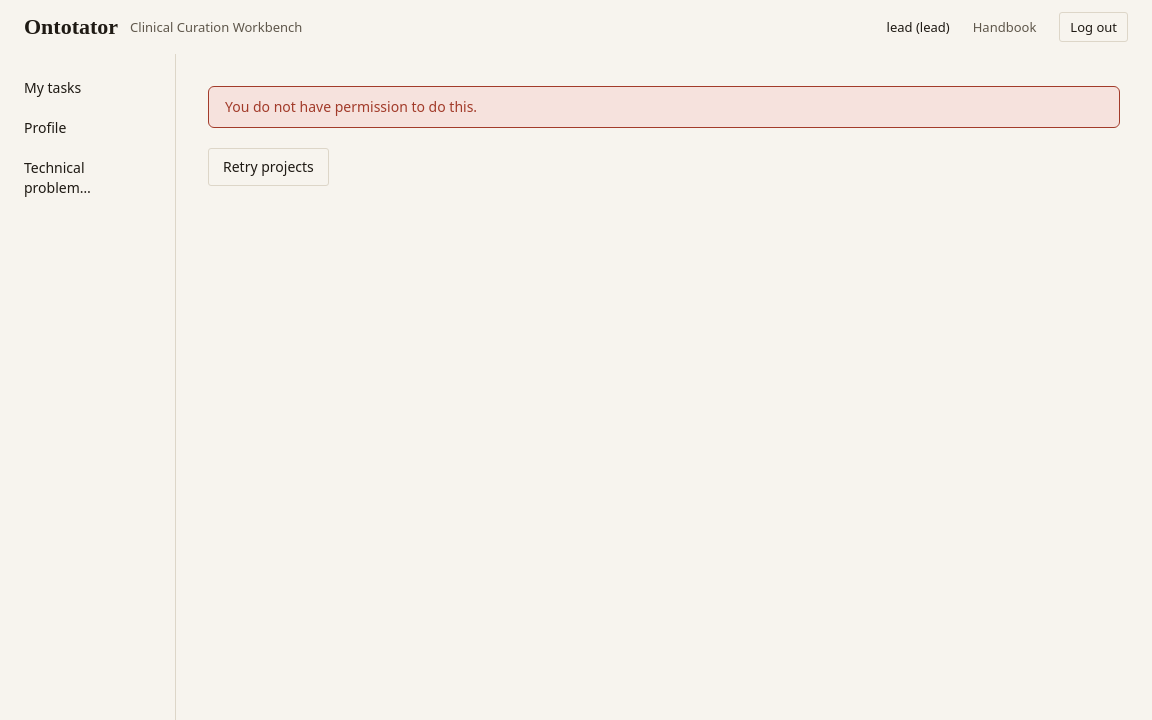
does not treat a failed current-project request as override authority and can retry safely
Expected: the button "Upload texts…" is not shown
Expected: the field labelled "reviewed outside Ontotator" is not shown
Click the button "Retry projects".
click(268, 167)  # box x1=208 y1=148 x2=329 y2=186
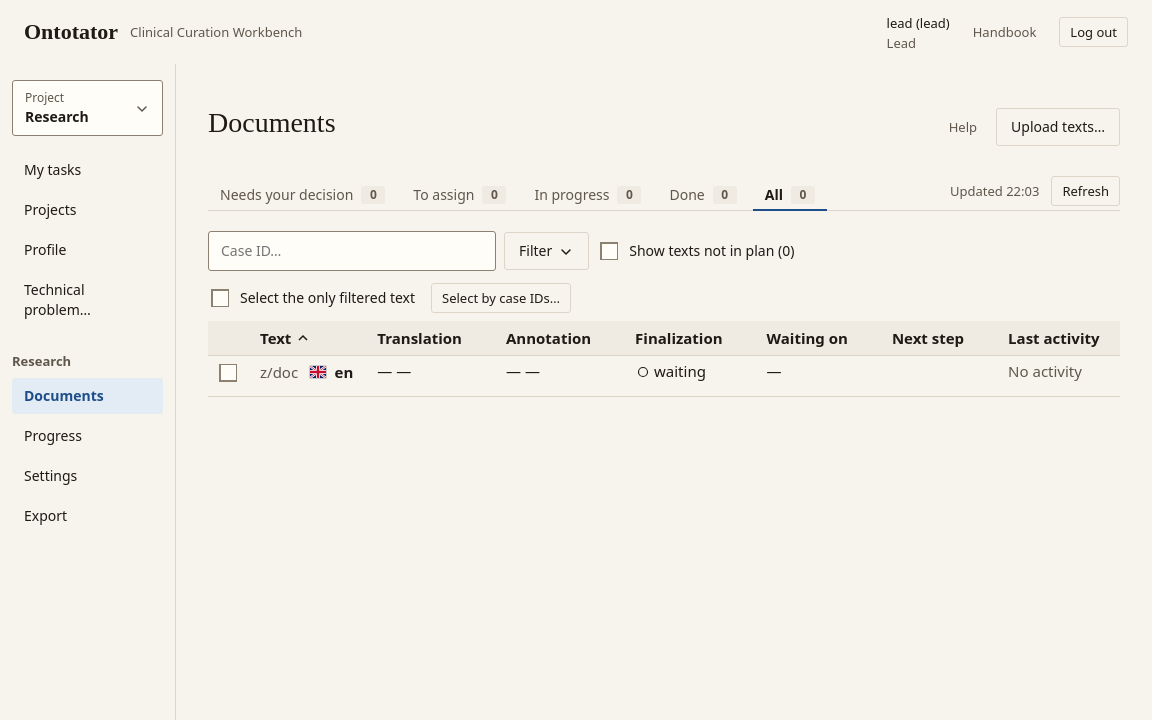
Click the button "Upload texts…".
click(1058, 127)  # box x1=996 y1=108 x2=1120 y2=146
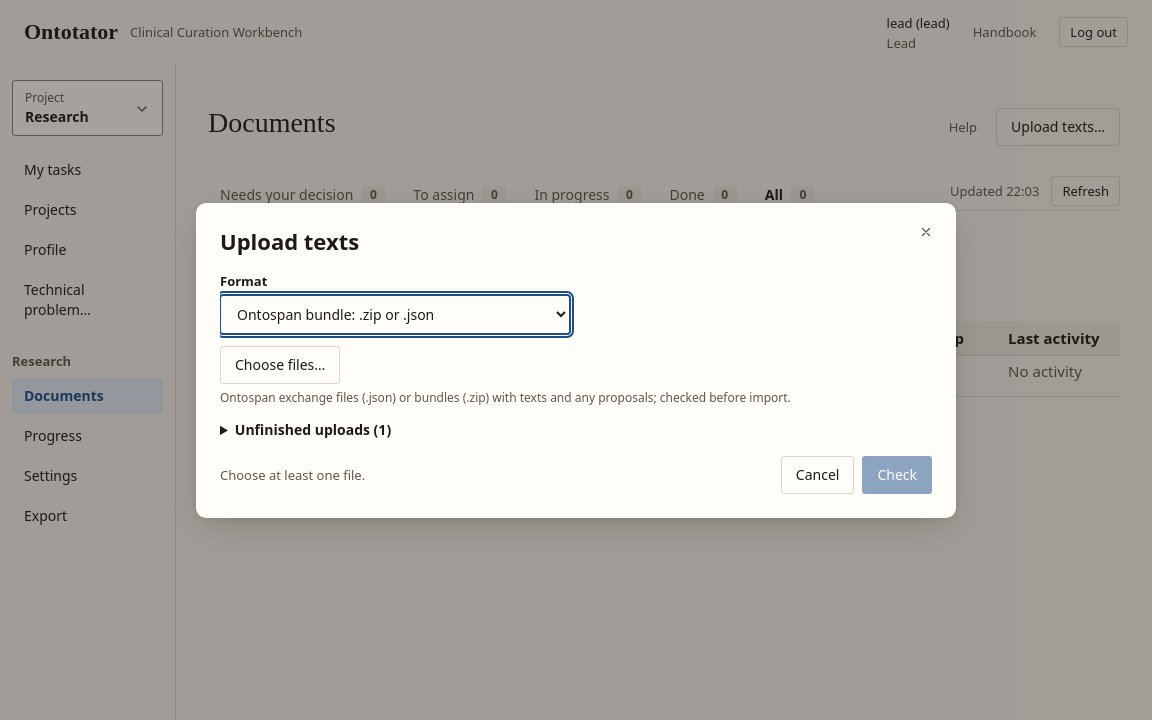
Click the heading "Unfinished uploads (1)".
click(306, 430)  # box x1=220 y1=420 x2=391 y2=440
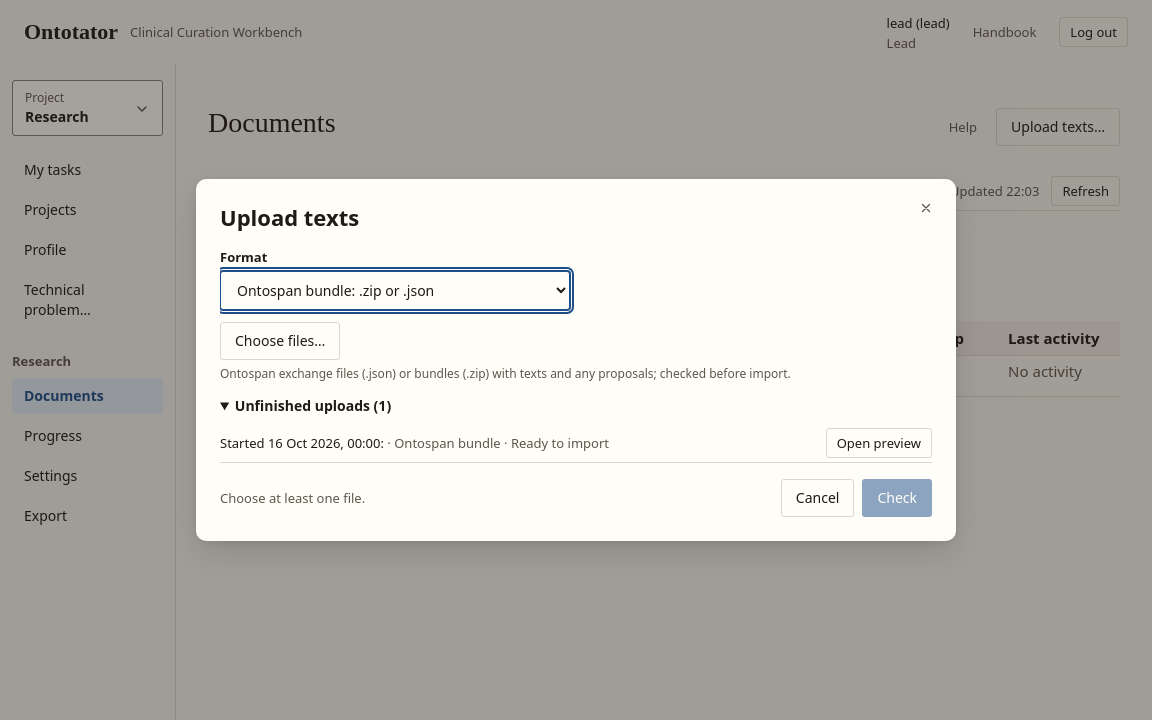
Click the button "Open preview".
click(879, 443)  # box x1=826 y1=428 x2=932 y2=458
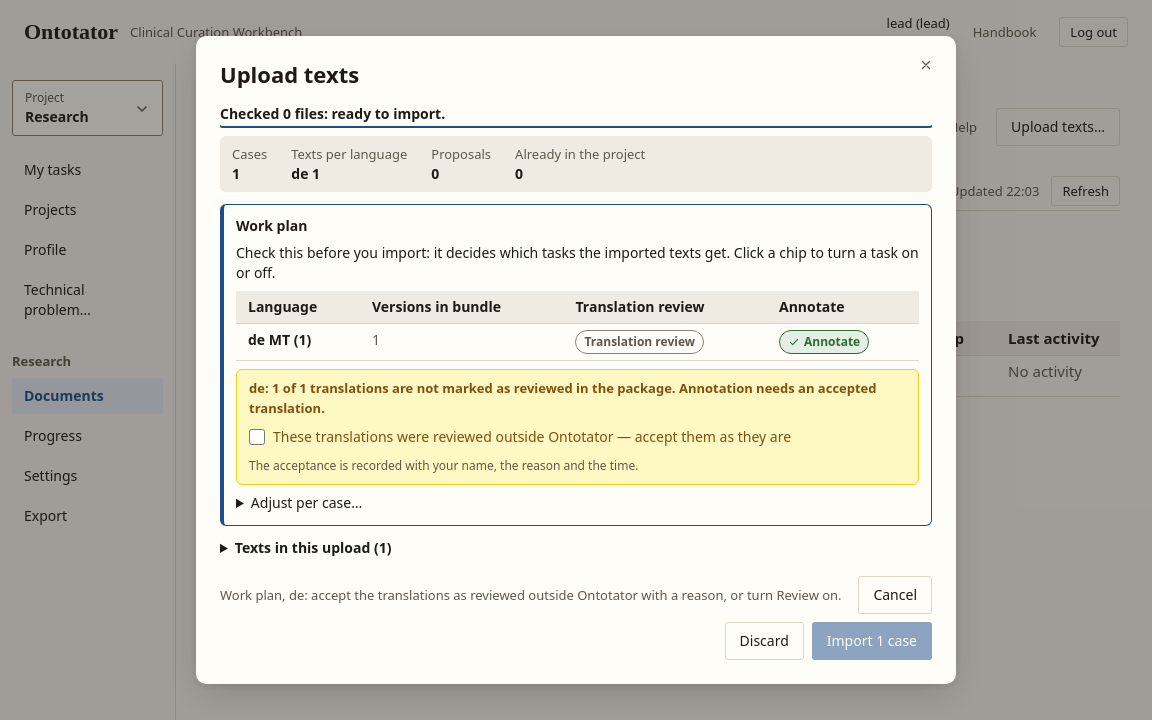
Result: the element "Work plan" is shown at x1=220 y1=204 x2=932 y2=526
Result: the checkbox labelled "reviewed outside Ontotator" is shown at x1=249 y1=429 x2=265 y2=445
